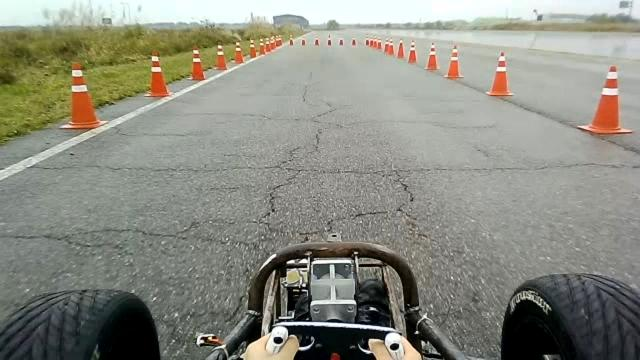red cone: (576, 65, 632, 134), (59, 62, 108, 129), (143, 50, 172, 97), (485, 51, 514, 96), (444, 44, 464, 79), (189, 44, 205, 80), (424, 42, 440, 70), (213, 42, 228, 70), (232, 41, 244, 64), (407, 40, 417, 63), (396, 38, 405, 58), (249, 38, 256, 58)
